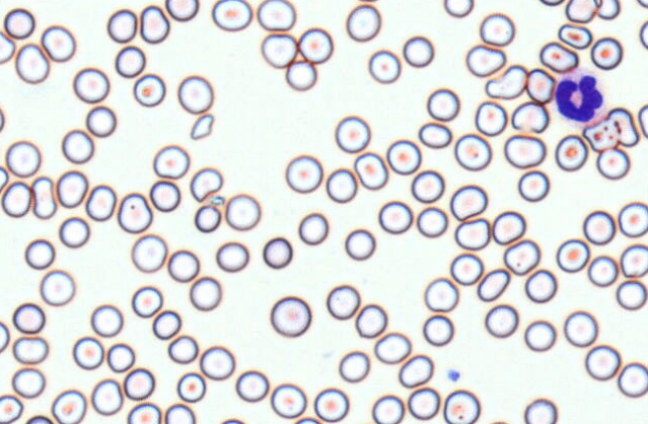GRAN: (556, 69, 609, 128)
PLT: (448, 368, 462, 383)
RBC: (270, 295, 311, 337), (503, 134, 546, 169), (285, 154, 323, 193), (117, 192, 152, 233), (449, 184, 487, 221), (454, 133, 491, 171), (131, 233, 167, 272), (177, 75, 213, 114), (15, 43, 49, 84), (5, 139, 41, 177), (334, 115, 370, 153), (353, 151, 388, 190), (465, 44, 506, 77), (503, 239, 540, 275), (584, 344, 621, 380), (260, 32, 297, 68), (72, 67, 109, 103), (40, 24, 75, 62), (346, 3, 381, 41), (39, 269, 75, 305), (152, 144, 189, 179), (563, 310, 598, 347), (225, 193, 260, 230), (211, 0, 252, 31), (313, 387, 349, 422), (270, 383, 306, 418), (199, 345, 235, 380), (298, 27, 333, 63), (386, 139, 421, 175), (443, 389, 480, 423), (554, 134, 588, 171), (373, 331, 411, 364), (511, 100, 549, 133), (539, 41, 578, 73), (256, 0, 296, 31), (423, 277, 458, 312), (326, 284, 360, 320), (479, 12, 515, 46), (90, 378, 123, 415), (56, 170, 88, 208), (398, 354, 433, 388), (51, 389, 86, 423), (556, 238, 590, 273), (492, 210, 526, 245), (484, 303, 518, 338), (454, 217, 490, 250), (474, 100, 507, 136), (139, 4, 169, 43), (410, 169, 444, 203), (378, 200, 412, 234), (524, 268, 557, 303), (582, 210, 615, 245), (61, 129, 94, 164), (325, 167, 357, 203), (85, 184, 116, 221), (596, 147, 630, 180), (449, 252, 483, 285), (407, 386, 440, 420), (235, 369, 269, 402), (476, 268, 510, 301), (590, 36, 623, 70), (132, 73, 165, 107), (426, 87, 459, 121), (368, 49, 401, 83), (189, 276, 221, 311), (355, 303, 387, 338), (31, 175, 56, 219), (90, 304, 123, 337), (72, 336, 104, 370), (106, 8, 137, 43), (1, 181, 31, 217), (617, 362, 647, 398), (617, 201, 647, 237), (167, 249, 199, 282), (11, 367, 45, 398), (215, 241, 249, 272), (12, 335, 48, 364), (517, 170, 549, 202), (338, 350, 370, 382), (422, 314, 454, 346), (58, 216, 90, 248), (524, 319, 556, 351), (3, 7, 35, 39), (402, 35, 434, 67), (123, 367, 154, 400), (12, 302, 45, 333), (587, 254, 618, 287), (114, 45, 145, 78), (615, 279, 647, 310), (131, 285, 162, 317), (149, 180, 180, 212), (285, 60, 317, 91), (344, 228, 375, 260), (416, 206, 448, 237), (85, 105, 116, 137), (262, 236, 292, 269), (298, 212, 328, 245), (24, 238, 55, 269), (371, 394, 404, 423), (557, 22, 592, 49), (620, 243, 647, 278), (176, 371, 206, 402), (167, 334, 198, 364), (523, 397, 557, 424), (418, 121, 452, 148), (152, 309, 181, 339), (106, 342, 135, 372), (565, 0, 598, 23), (194, 204, 221, 232), (127, 402, 161, 423), (165, 0, 198, 21), (0, 394, 23, 423), (164, 403, 195, 423), (443, 0, 474, 17), (0, 30, 15, 64), (596, 0, 620, 20), (637, 103, 648, 138), (0, 321, 10, 352), (25, 414, 53, 423), (0, 165, 9, 191), (639, 20, 647, 49), (294, 416, 320, 423), (220, 417, 245, 423), (539, 0, 564, 6), (0, 106, 5, 132), (486, 420, 512, 424), (636, 0, 648, 8), (356, 0, 380, 3)
Schistocyte: (484, 67, 527, 100), (607, 108, 641, 148), (582, 119, 619, 153), (189, 168, 224, 203), (512, 101, 550, 133), (526, 68, 556, 105), (190, 115, 216, 140)
